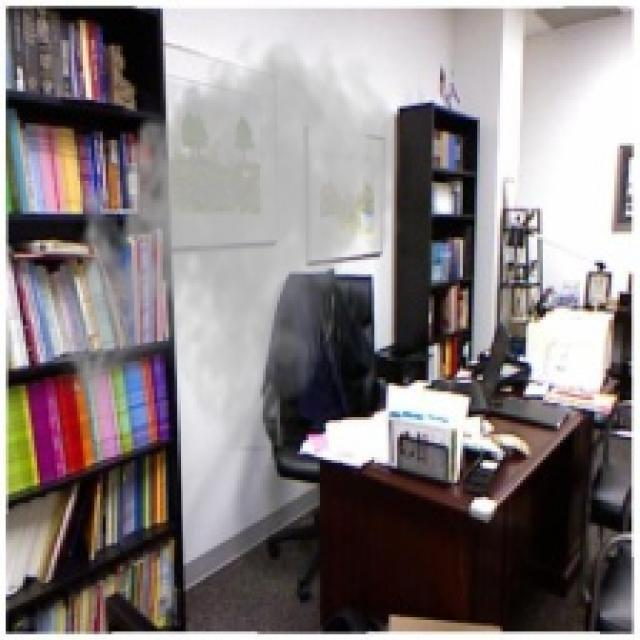Smoke: (57, 26, 409, 452)
